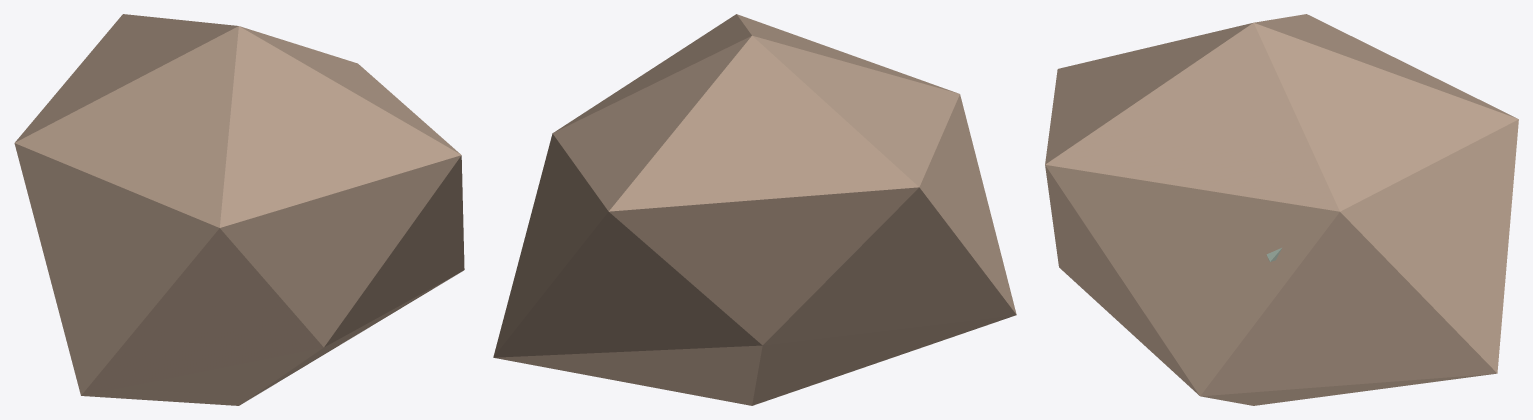
File: OreBoulderA.glb
3 views of the same model, side by side, from view 1: azimuth 30°, elevation 25°; view 2: azimuth 150°, elevation 25°; view 3: azimuth 270°, elevation 25° (orthographic). The views are drawn at different scales.
Visible parts, largest first — view 1: Ore boulder; view 2: Ore boulder; view 3: Ore boulder.
Boxes of the visible parts, x1=… form: Ore boulder: x1=14, y1=14, x2=464, y2=405; Ore boulder: x1=493, y1=14, x2=1016, y2=405; Ore boulder: x1=1045, y1=14, x2=1518, y2=405.
Bounding box in the file's own units: 1.88 × 1.65 × 1.85.
